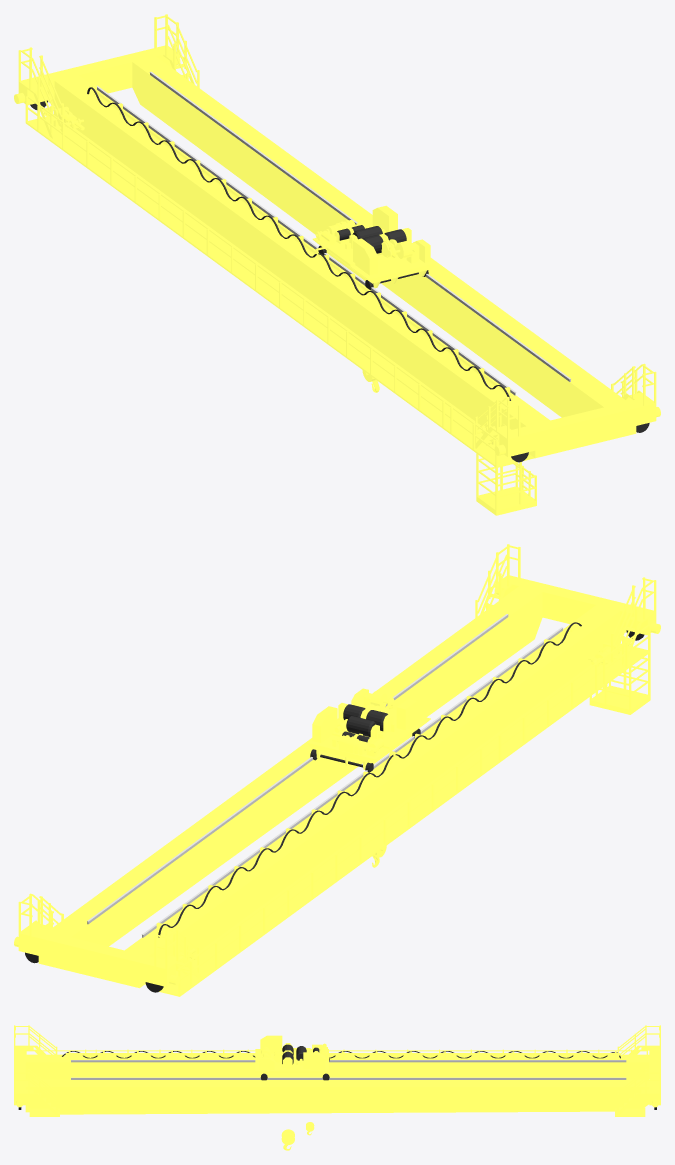
The picture shows the model from 3 angles, top to bottom: view 1: azimuth 30°, elevation 25°; view 2: azimuth 150°, elevation 25°; view 3: azimuth 270°, elevation 25°; orthographic projection. The views are drawn at different scales.
Visible parts, largest first — view 1: 1_Bay_C_865_Body; view 2: 1_Bay_C_865_Body; view 3: 1_Bay_C_865_Body, 1_Bay_C_865_Body_Head_01.
Part boxes in pixels (x1,y1,x2,y2): 1_Bay_C_865_Body: [14, 14, 660, 515]; 1_Bay_C_865_Body: [14, 544, 660, 996]; 1_Bay_C_865_Body: [14, 1025, 660, 1116]; 1_Bay_C_865_Body_Head_01: [281, 1122, 314, 1150].
Bounding box in the file's own units: 7.46 × 7.11 × 39.13.
